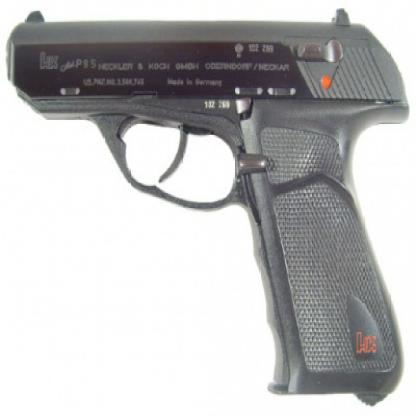Guns: (3, 3, 415, 408)
